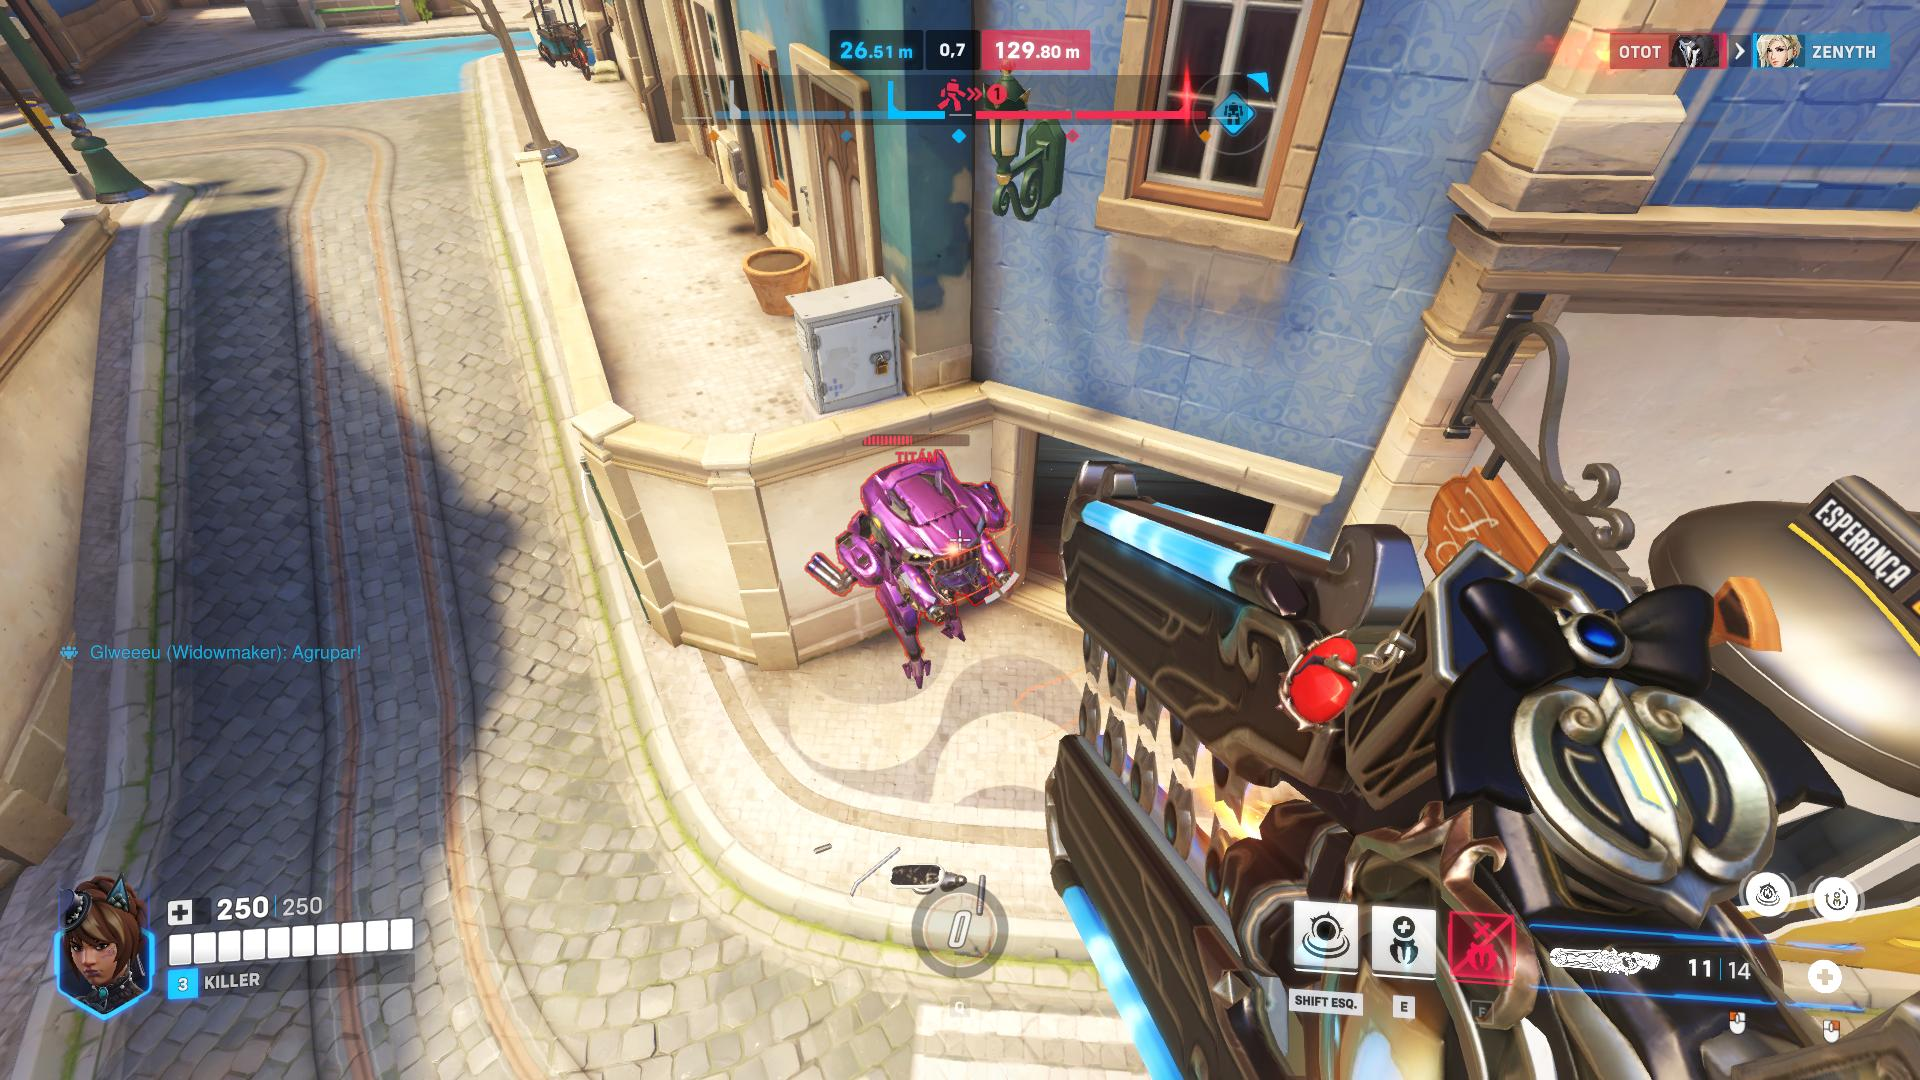enemy: (851, 450, 1009, 690)
